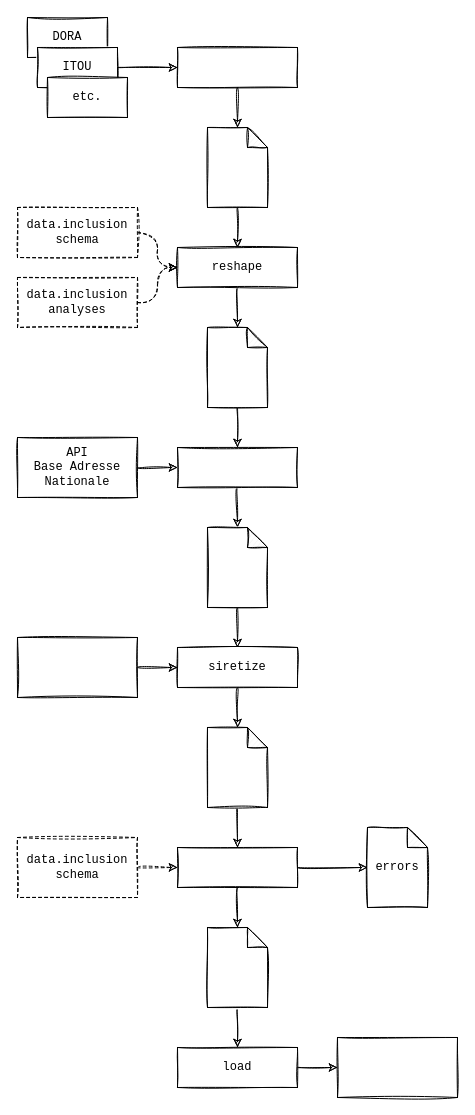
The diagram is 475 pixels wide and 1115 high, and some of its shapes have lost their labels. The box of each missing label's shape, as (x1, y1, x2, y2) in pixels:
Base sirene géocodée: (16, 636, 138, 698)
data.inclusion: (336, 1036, 458, 1098)
extract: (176, 46, 298, 88)
geocode: (176, 446, 298, 488)
validate: (176, 846, 298, 888)
